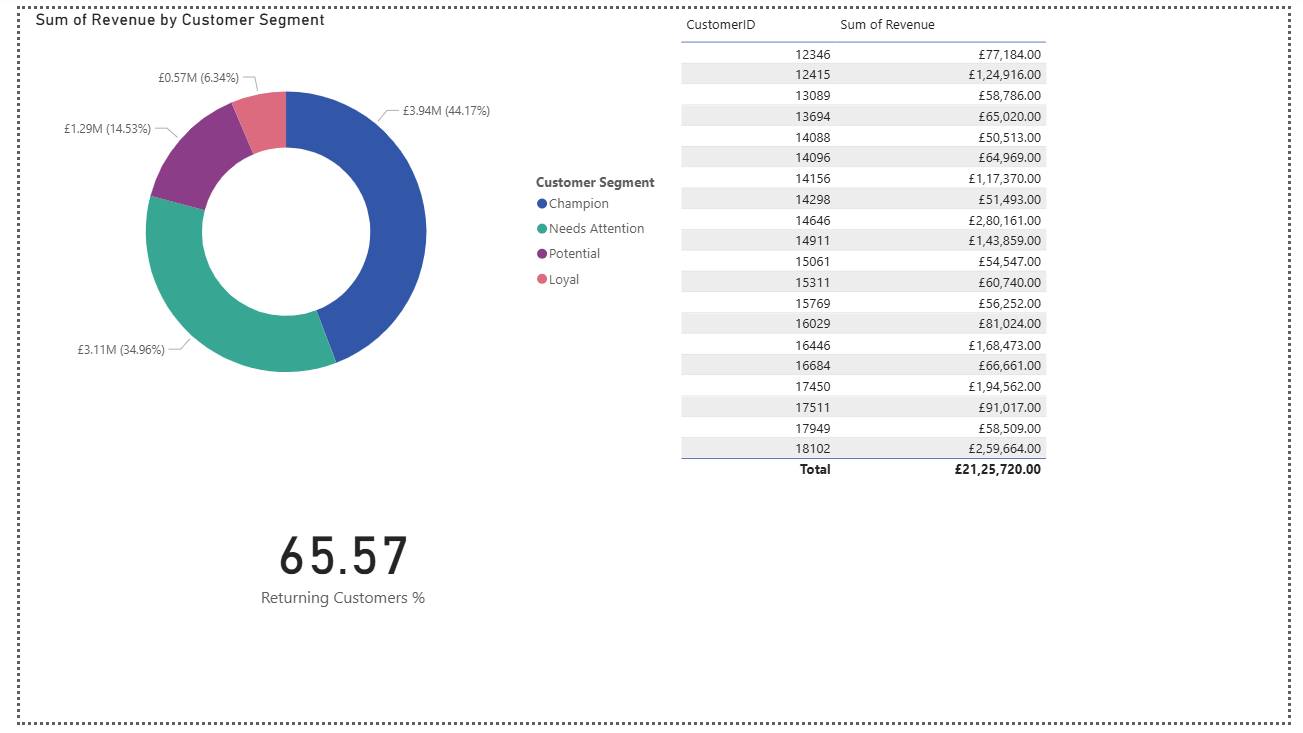

The page's visual inventory and layout, read from the dashboard file:
{"tool":"powerbi","page":{"name":"Customer Segmentation","canvas":[1280,720],"ordinal":2},"visuals":[{"type":"donutChart","fields":{"Category":["data.Customer Segment"],"Y":["Sum(data.Revenue)"]},"box":[10,0,651.7,430],"z":0},{"type":"tableEx","fields":{"Values":["data.CustomerID","Sum(data.Revenue)"]},"box":[661.7,0,618.3,493.3],"z":1000},{"type":"card","fields":{"Values":["data.Returning Customers %"]},"box":[0,415,651.7,280],"z":2000}]}

Visuals, with their boxes in screenshot pixels (x1, y1, x2, y2), scaled from the page's 1280x720 canvas onto the 1303x733 screenshot:
donutChart - data.Customer Segment x Sum(data.Revenue): locate(10, 0, 674, 438)
tableEx - data.CustomerID x Sum(data.Revenue): locate(674, 0, 1302, 502)
card - data.Returning Customers %: locate(0, 422, 663, 708)
